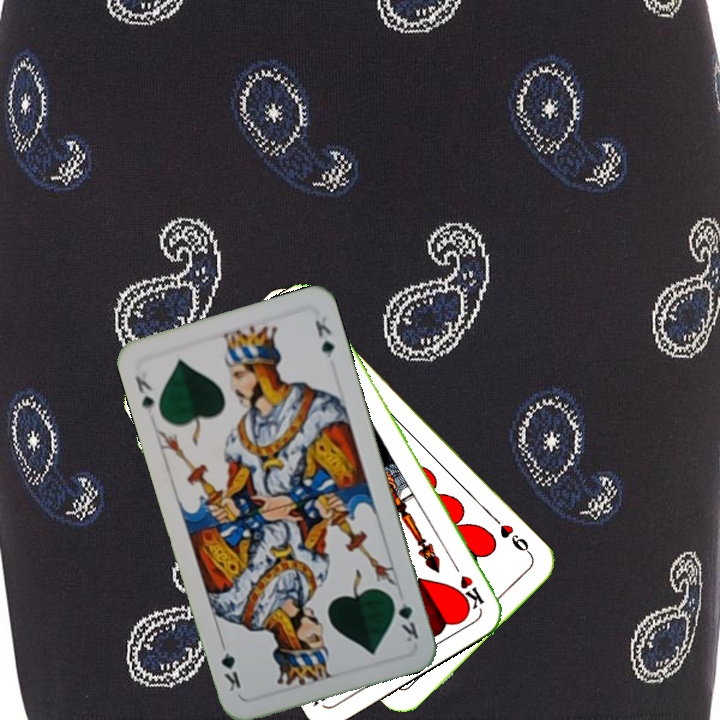GK: (387, 591, 422, 645), (131, 372, 157, 416)
H9: (490, 513, 535, 560)
HK: (447, 557, 487, 611)
